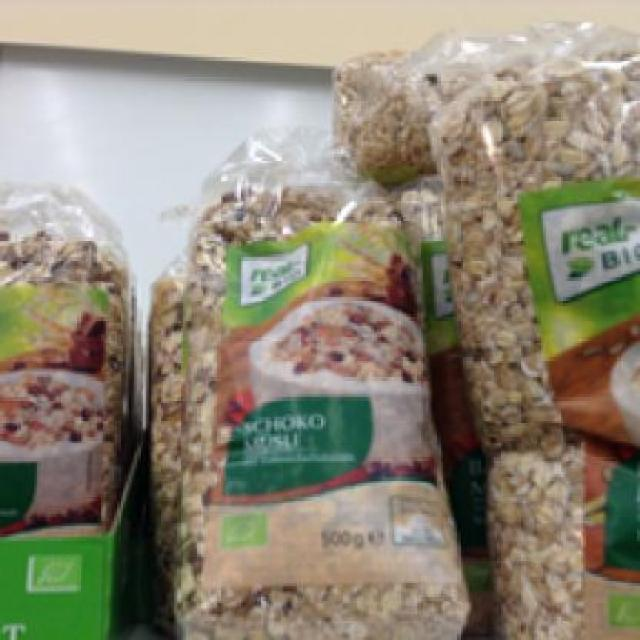Cereal: (146, 192, 472, 632), (414, 42, 634, 635), (0, 182, 129, 535)
